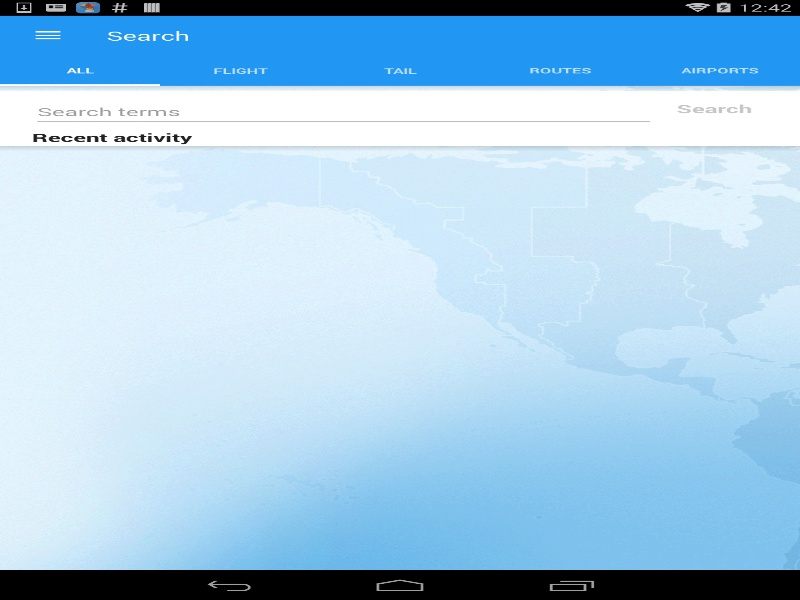Button: (660, 91, 768, 125), (10, 15, 85, 55)
Input: (32, 98, 655, 127)
